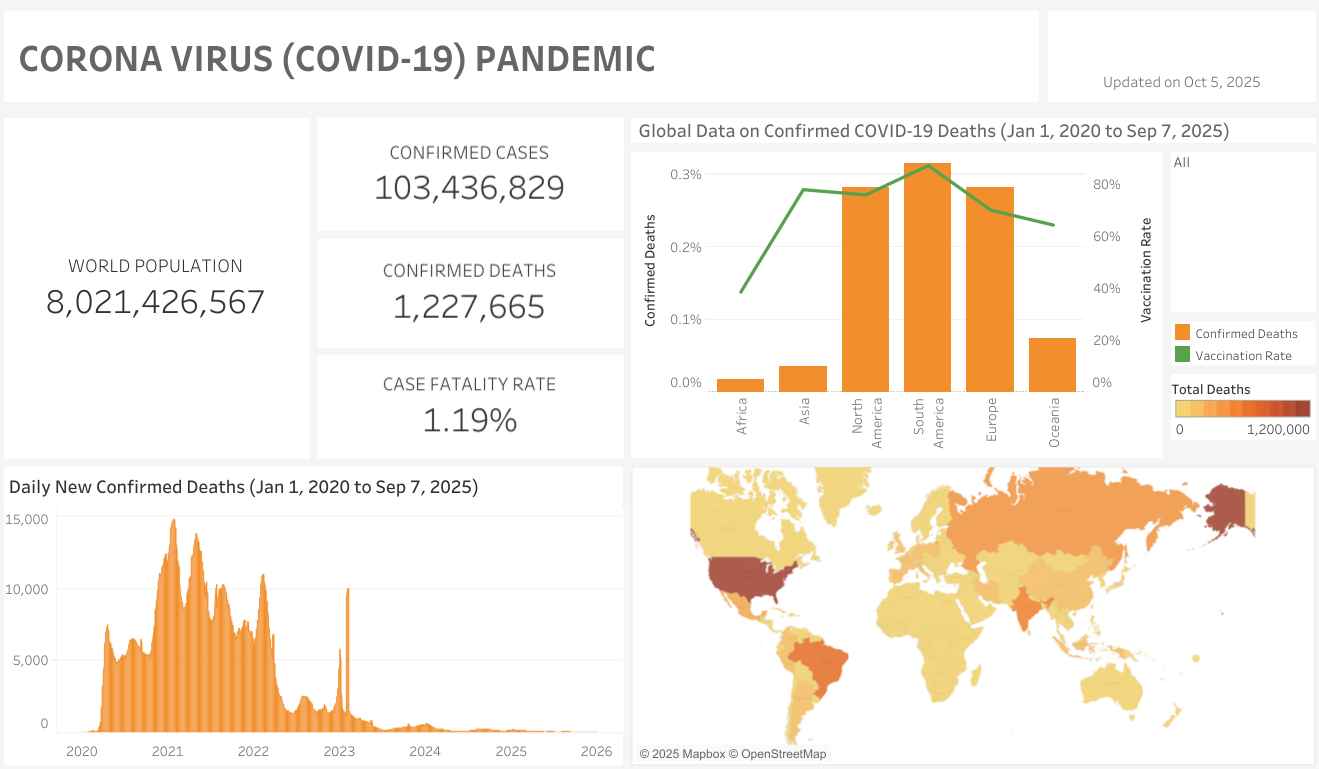

The dashboard page shown, as its layout file describes it:
{"tool":"tableau","page":{"name":"Dashboard 3","canvas":[1200,700],"ordinal":0},"visuals":[{"type":"text","box":[0,0,949,103]},{"type":"text","box":[949,0,251,103]},{"type":"worksheet","title":"pop","mark":"Automatic","box":[0,103,285,317]},{"type":"worksheet","title":"cfm cases","mark":"Text","box":[285,103,285,110]},{"type":"text","box":[570,103,630,31]},{"type":"worksheet","title":"continents","mark":"Bar","rows":["Calculation_4345692212545064965","vaccination_rate"],"cols":["continent"],"box":[570,134,491,286]},{"type":"filter","title":"continents","param":"[federated.00vmnzo0lnvfz51ejevm70wyuni5].[none:continent:nk]","box":[1061,134,139,154]},{"type":"worksheet","title":"cfm deaths","mark":"Automatic","box":[285,213,285,106]},{"type":"legend","title":"continents","param":"[federated.00vmnzo0lnvfz51ejevm70wyuni5].[:Measure Names]","box":[1061,288,139,48]},{"type":"worksheet","title":"CFR","mark":"Automatic","box":[285,319,285,101]},{"type":"legend","title":"countries","param":"[federated.0mijymy0885tyc145dkuz154gv1i].[none:total_deaths:qk]","box":[1061,336,139,68]},{"type":"worksheet","title":"daily confirmed deaths","mark":"Area","rows":["new_deaths_smoothed"],"cols":["date"],"box":[0,420,570,280]},{"type":"worksheet","title":"countries","mark":"Multipolygon","box":[570,420,630,280]}]}

Visuals, with their boxes in screenshot pixels (x1, y1, x2, y2), scaled from the page's 1200x700 canvas onto the 1319x769 screenshot:
text: (left=0, top=0, right=1043, bottom=113)
text: (left=1043, top=0, right=1318, bottom=113)
"pop" worksheet: (left=0, top=113, right=313, bottom=461)
"cfm cases" worksheet (Text marks): (left=313, top=113, right=627, bottom=234)
text: (left=627, top=113, right=1318, bottom=147)
"continents" worksheet (Bar marks): (left=627, top=147, right=1166, bottom=461)
"continents" filter: (left=1166, top=147, right=1318, bottom=316)
"cfm deaths" worksheet: (left=313, top=234, right=627, bottom=350)
"continents" legend: (left=1166, top=316, right=1318, bottom=369)
"CFR" worksheet: (left=313, top=350, right=627, bottom=461)
"countries" legend: (left=1166, top=369, right=1318, bottom=444)
"daily confirmed deaths" worksheet (Area marks): (left=0, top=461, right=627, bottom=768)
"countries" worksheet (Multipolygon marks): (left=627, top=461, right=1318, bottom=768)
